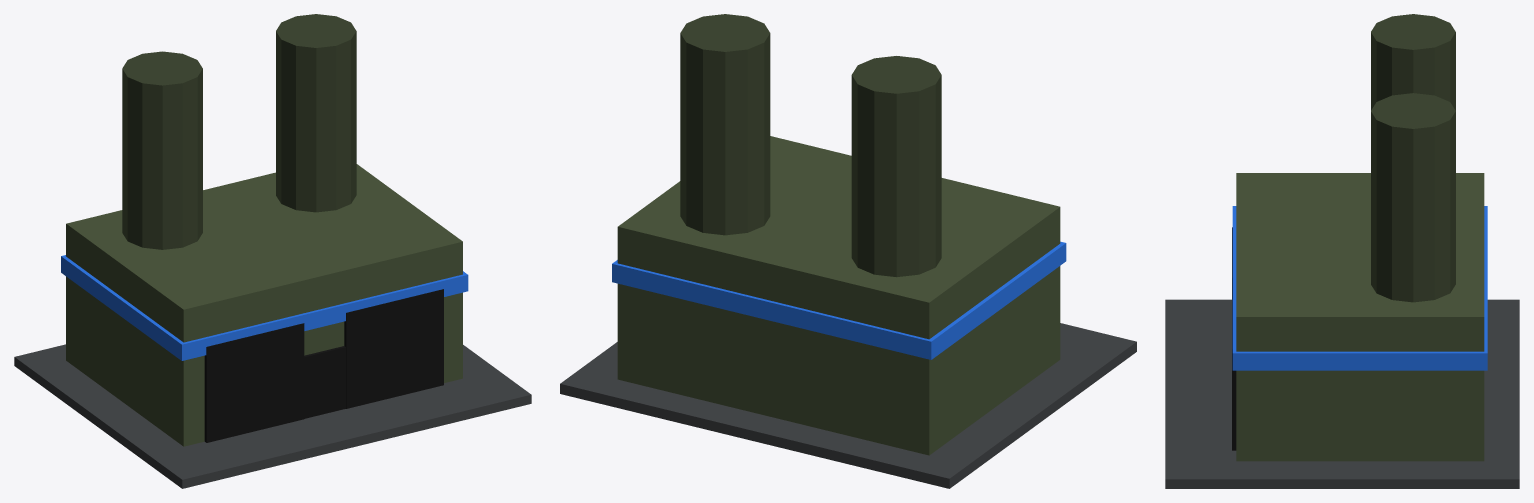
File: kp_logistics_hub.glb
The picture shows the model from 3 angles, left to right: view 1: azimuth 30°, elevation 25°; view 2: azimuth 150°, elevation 25°; view 3: azimuth 270°, elevation 25°; orthographic projection. The views are drawn at different scales.
Visible parts, largest first — view 1: main, base, stack_0, stack_1, garage_0, garage_1, team_band, door; view 2: main, base, stack_1, stack_0, team_band; view 3: main, base, stack_1, stack_0, team_band, garage_1.
Boxes of the visible parts, x1=… form: main: x1=66, y1=164, x2=462, y2=446; base: x1=14, y1=344, x2=531, y2=488; stack_0: x1=122, y1=51, x2=202, y2=249; stack_1: x1=276, y1=14, x2=356, y2=212; garage_0: x1=204, y1=323, x2=304, y2=442; garage_1: x1=344, y1=289, x2=443, y2=408; team_band: x1=61, y1=255, x2=468, y2=360; door: x1=304, y1=346, x2=345, y2=418; main: x1=617, y1=136, x2=1060, y2=455; base: x1=560, y1=323, x2=1136, y2=488; stack_1: x1=680, y1=14, x2=770, y2=235; stack_0: x1=851, y1=56, x2=941, y2=277; team_band: x1=612, y1=241, x2=1066, y2=359; main: x1=1236, y1=173, x2=1484, y2=461; base: x1=1165, y1=299, x2=1519, y2=488; stack_1: x1=1371, y1=93, x2=1455, y2=302; stack_0: x1=1371, y1=14, x2=1455, y2=110; team_band: x1=1232, y1=206, x2=1487, y2=370; garage_1: x1=1232, y1=299, x2=1236, y2=450.
Bounding box in the file's own units: 12 × 10.2 × 10.
